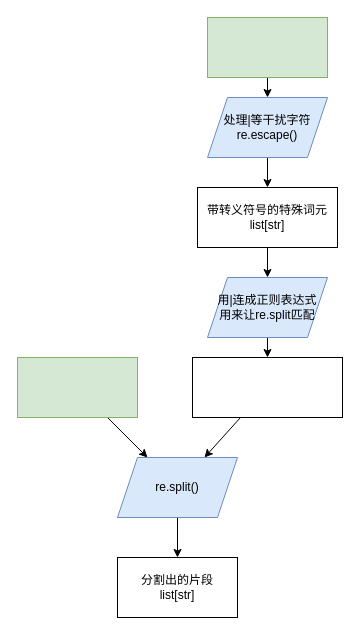
This 360x635 diagram has some shape labels left out. The shapes that lost their labels are listed below. From the top down, each one's centre as x and y in pixels, then its label:
At pixel 267 47: "特殊词元 special_tokens:list[str]".
At pixel 77 387: "预分词的文本片段 str".
At pixel 267 387: "特殊词元连接而成的正则 str".
